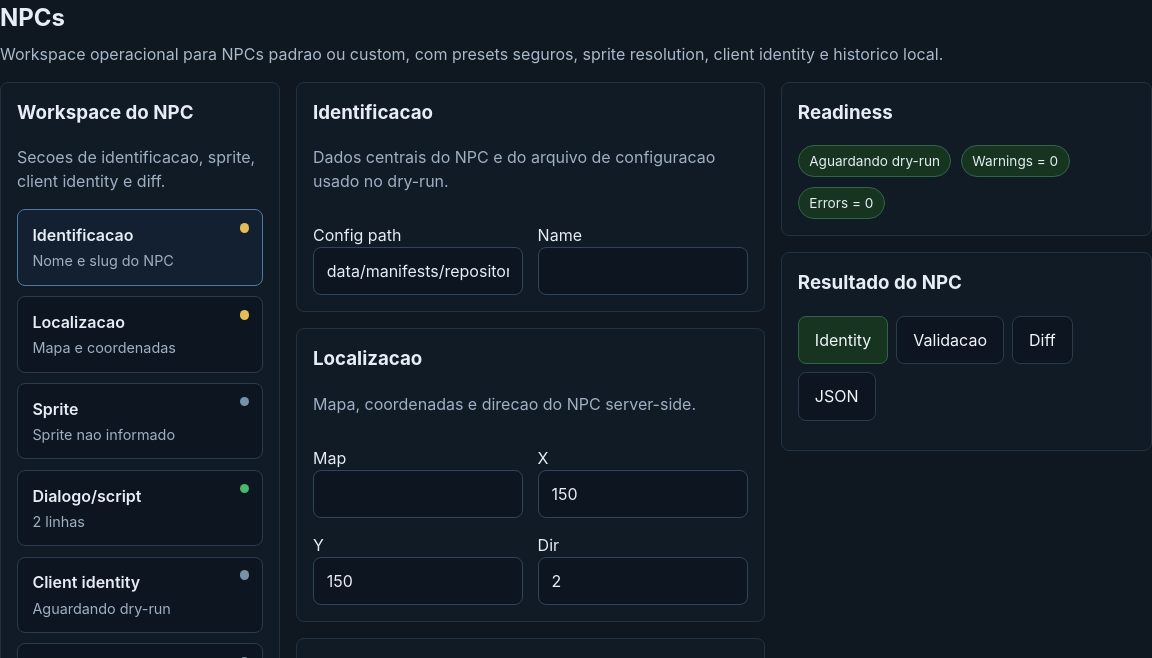
NpcsPage › renderiza ClientIdentityPlan e nao mostra botoes de apply/rollback
Type "sample_npc" into the field labelled "Name" at point(643, 271), box [538,247,748,295]
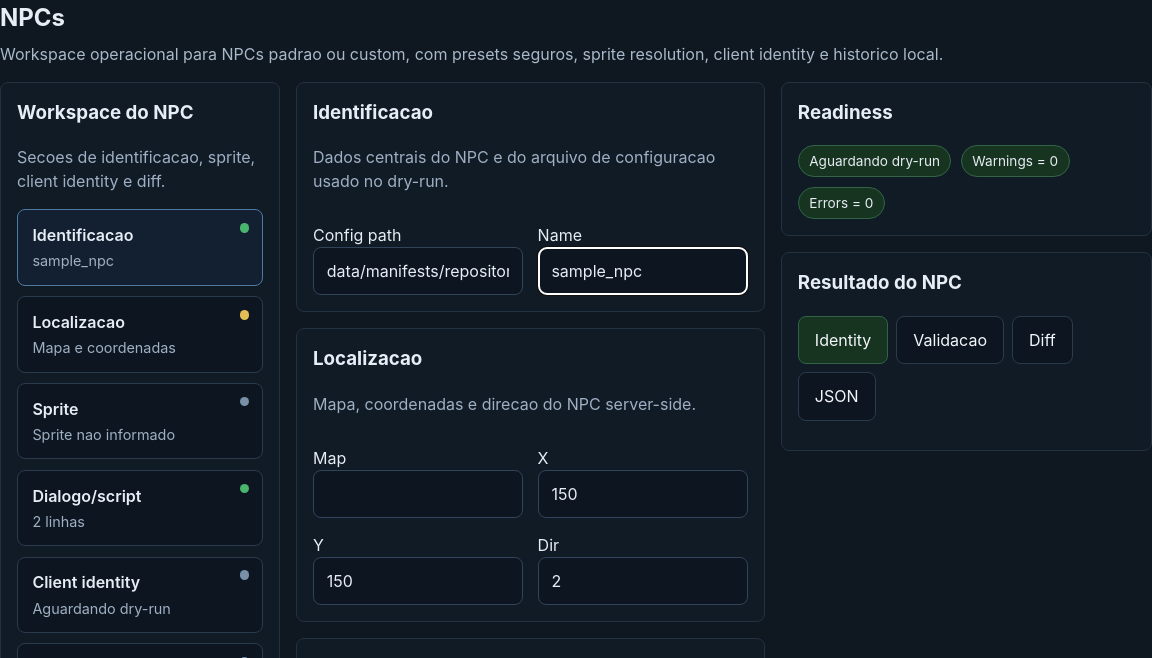
Type "prontera" into the field labelled "Map" at point(418, 494), box [313,470,523,518]
(page scrolled)
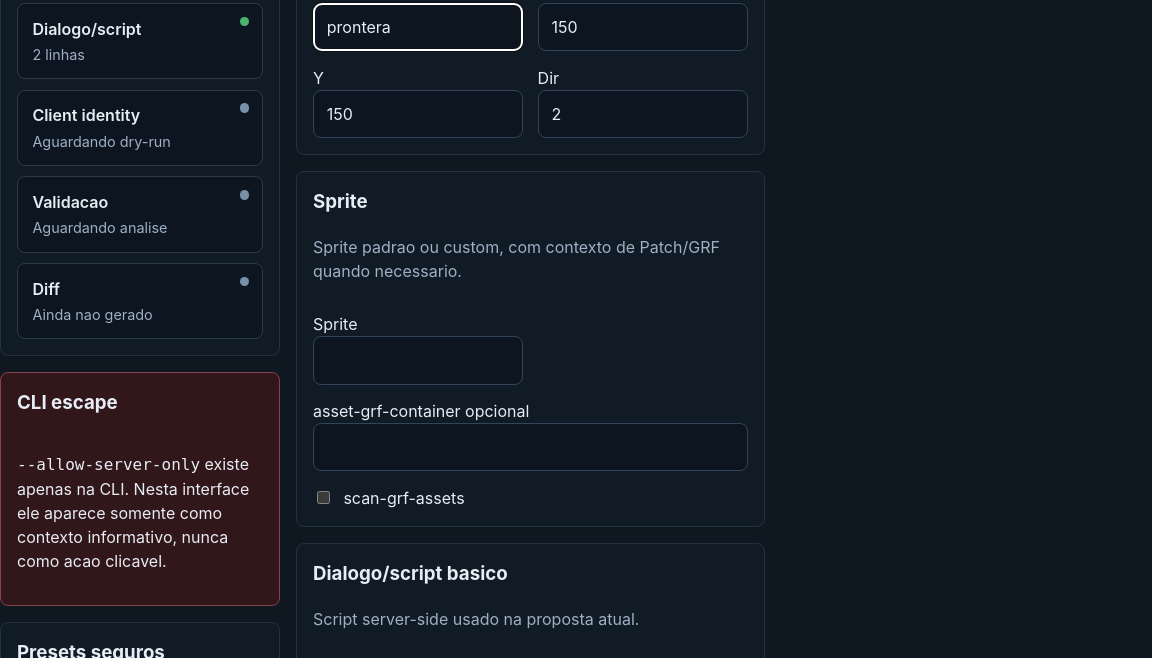
Type "sample_npc" into the field labelled "Sprite" at point(418, 360), box [313,336,523,385]
(page scrolled)
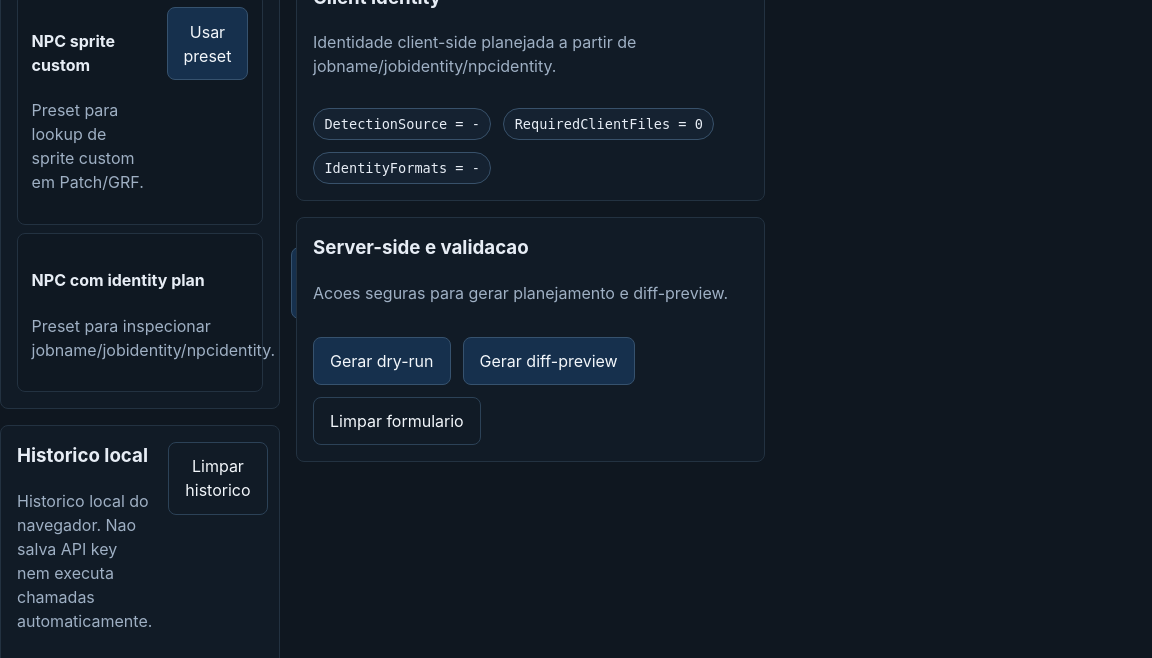
Click the button "Gerar dry-run" at point(382, 361), box [313,337,450,385]
(page scrolled)
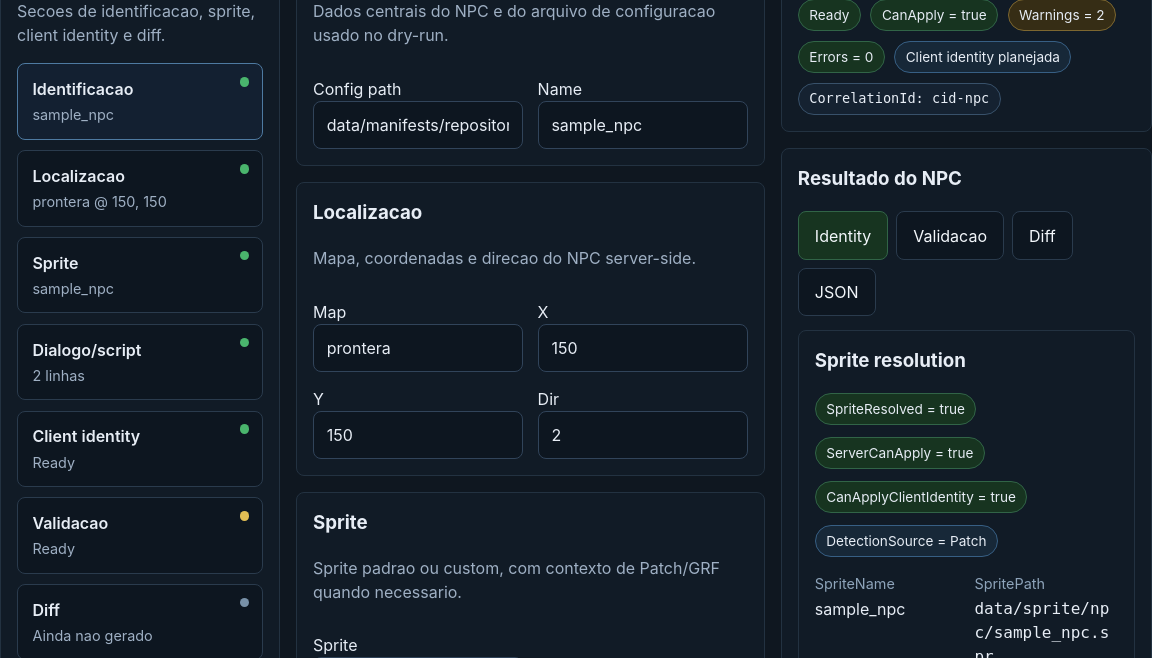
Now the heading "Sprite resolution" is shown, box [815,347,966,375]
